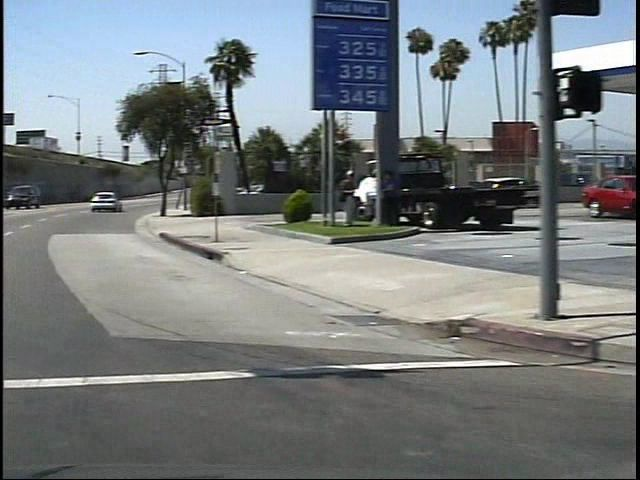person: (327, 162, 353, 227)
